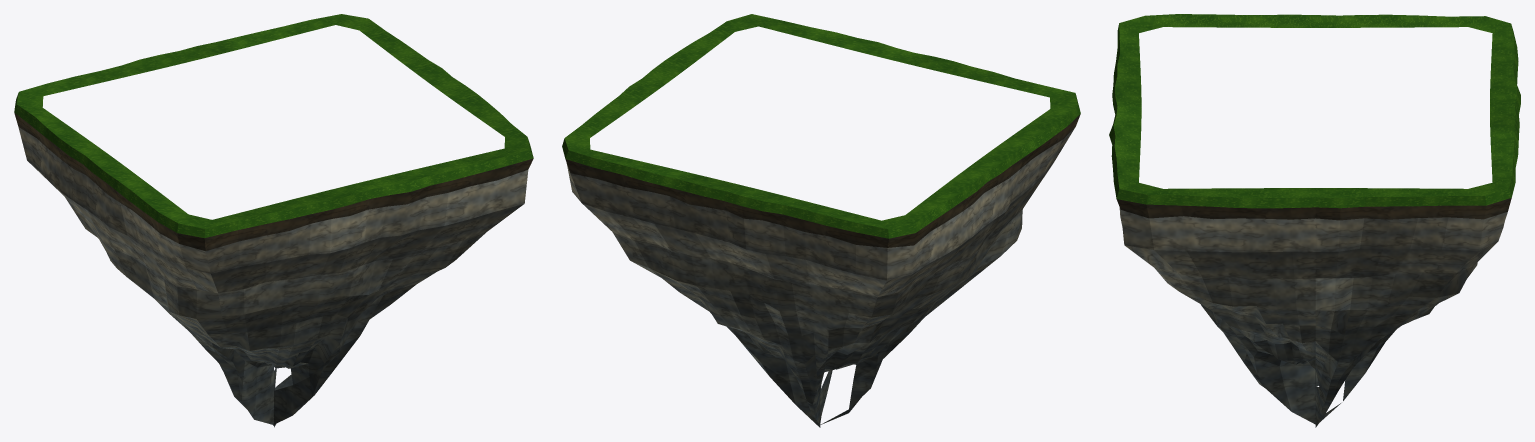
Rendered from island_under_cloud_small.glb.
The picture shows the model from 3 angles, left to right: view 1: azimuth 30°, elevation 25°; view 2: azimuth 150°, elevation 25°; view 3: azimuth 270°, elevation 25°; orthographic projection. The views are drawn at different scales.
Parts seen in each view (by area): view 1: island_under_cloud_small; view 2: island_under_cloud_small; view 3: island_under_cloud_small.
Part boxes in pixels (<box>): island_under_cloud_small: <box>14,14,533,427</box>; island_under_cloud_small: <box>562,14,1080,427</box>; island_under_cloud_small: <box>1109,14,1520,427</box>.
Bounding box in the file's own units: 14.45 × 11.62 × 13.48.
2 materials, 2 textured.
